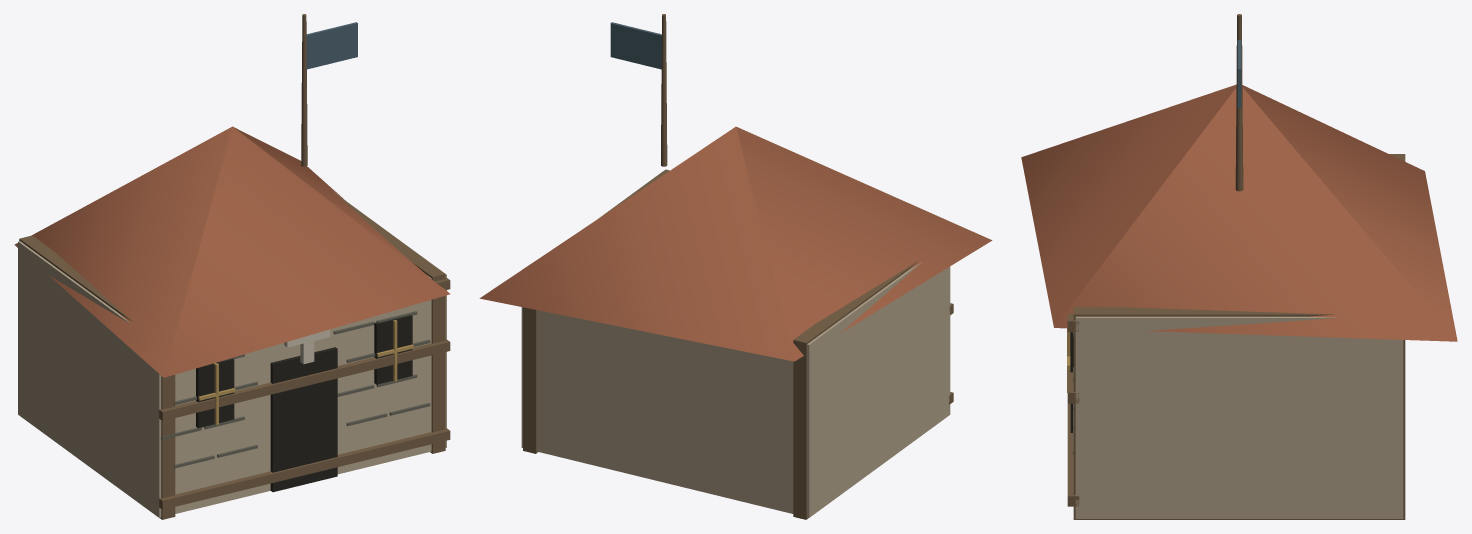
The model's file is b-healing-castilian.glb.
The picture shows the model from 3 angles, left to right: view 1: azimuth 30°, elevation 25°; view 2: azimuth 150°, elevation 25°; view 3: azimuth 270°, elevation 25°; orthographic projection. The views are drawn at different scales.
Visible parts, largest first — view 1: Structure; view 2: Structure; view 3: Structure.
Boxes of the visible parts, x1,y1,x2,y2 form: Structure: (14, 14, 450, 519); Structure: (479, 14, 992, 519); Structure: (1021, 14, 1457, 519).
Bounding box in the file's own units: 4.53 × 5.33 × 4.53.
